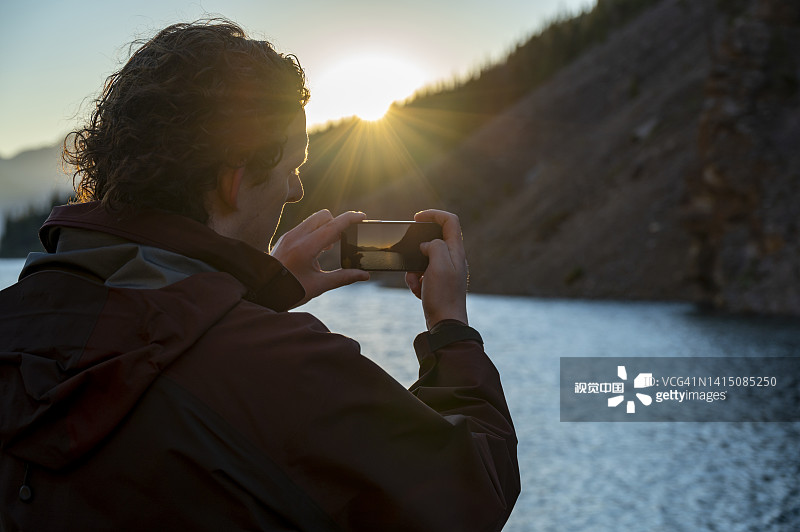taking photos: (269, 194, 407, 315), (388, 203, 501, 328)
